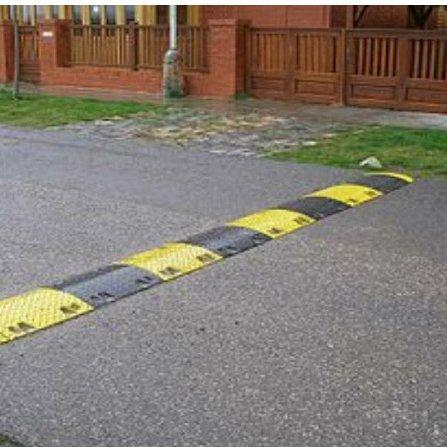speedbreaker: (1, 169, 408, 369)
